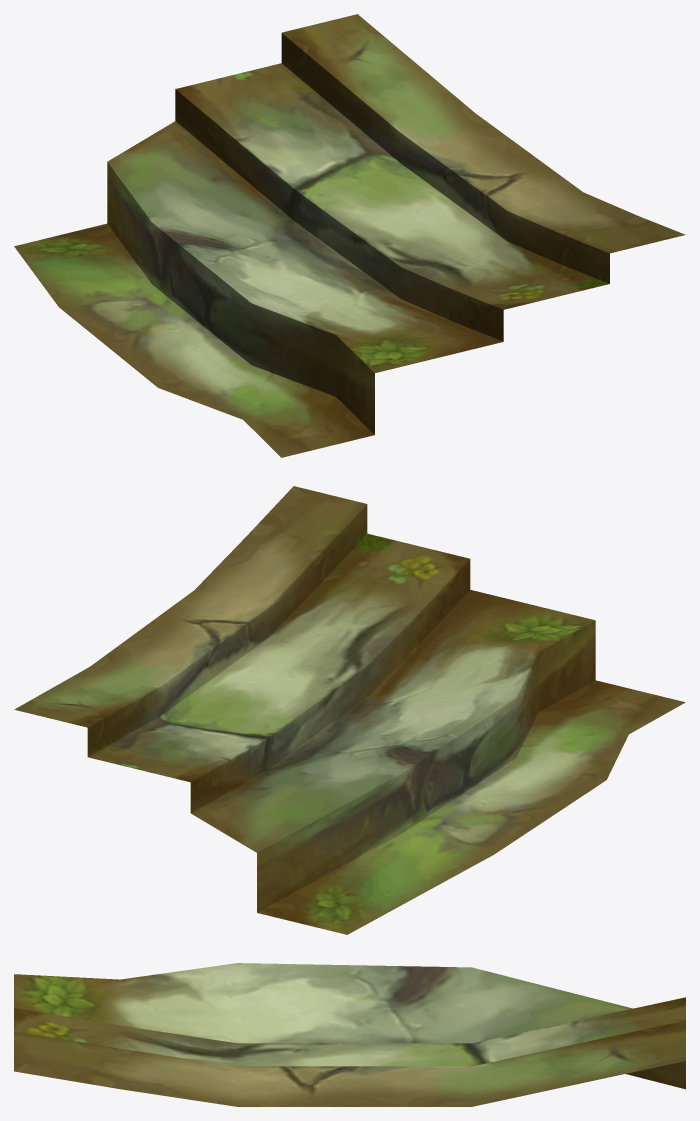
Rendered from shiti02.FBX.
The picture shows the model from 3 angles, top to bottom: view 1: azimuth 30°, elevation 25°; view 2: azimuth 150°, elevation 25°; view 3: azimuth 270°, elevation 25°; orthographic projection. The views are drawn at different scales.
Parts seen in each view (by area): view 1: shiti02; view 2: shiti02; view 3: shiti02.
Boxes of the visible parts, x1=… form: shiti02: x1=14, y1=14, x2=685, y2=457; shiti02: x1=14, y1=486, x2=685, y2=934; shiti02: x1=14, y1=963, x2=685, y2=1106.
Bounding box in the file's own units: 14.95 × 18.77 × 4.98.
